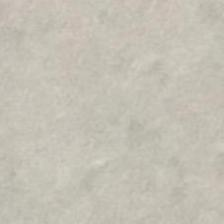Non_Crack: (28, 41, 188, 176)
